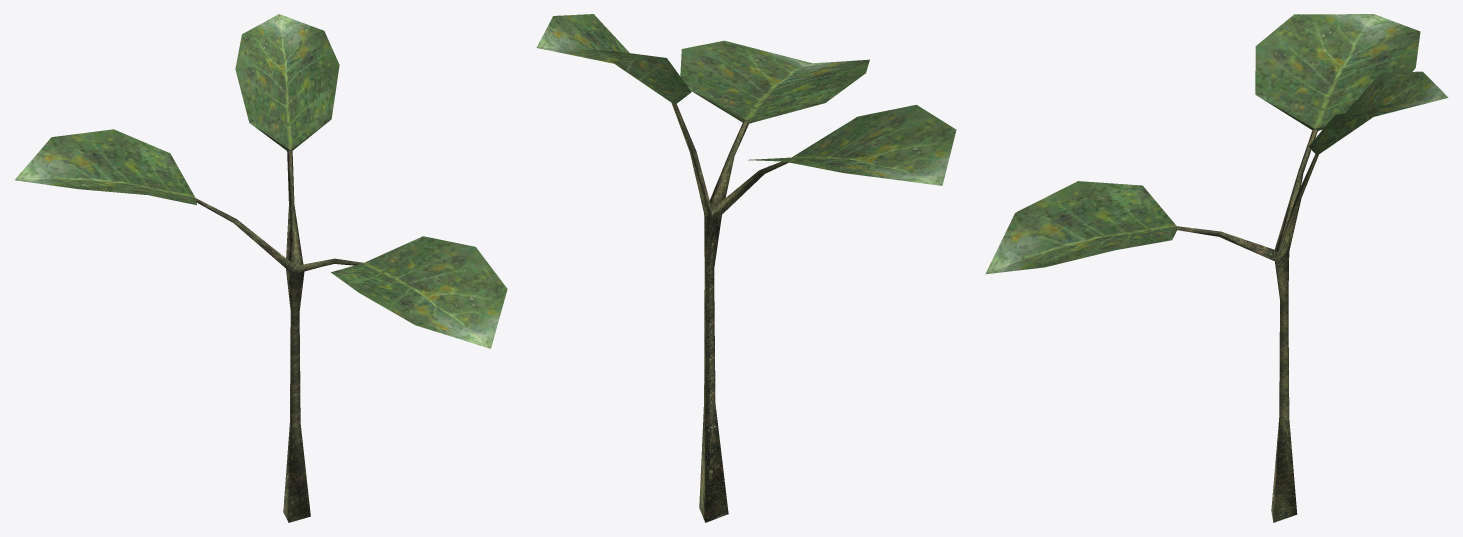
Rendered from leaf_smallflora_l0.fbx.
3 renders of one model, left to right at view 1: azimuth 30°, elevation 25°; view 2: azimuth 150°, elevation 25°; view 3: azimuth 270°, elevation 25°, orthographic. The views are drawn at different scales.
Visible parts, largest first — view 1: mesh_node; view 2: mesh_node; view 3: mesh_node.
Part boxes in pixels (left/top/right/bottom): mesh_node: left=14, top=14, right=507, bottom=522; mesh_node: left=536, top=14, right=956, bottom=522; mesh_node: left=985, top=14, right=1448, bottom=522.
Bounding box in the file's own units: 0.922 × 1.12 × 1.04.
2 materials, 2 textured.
